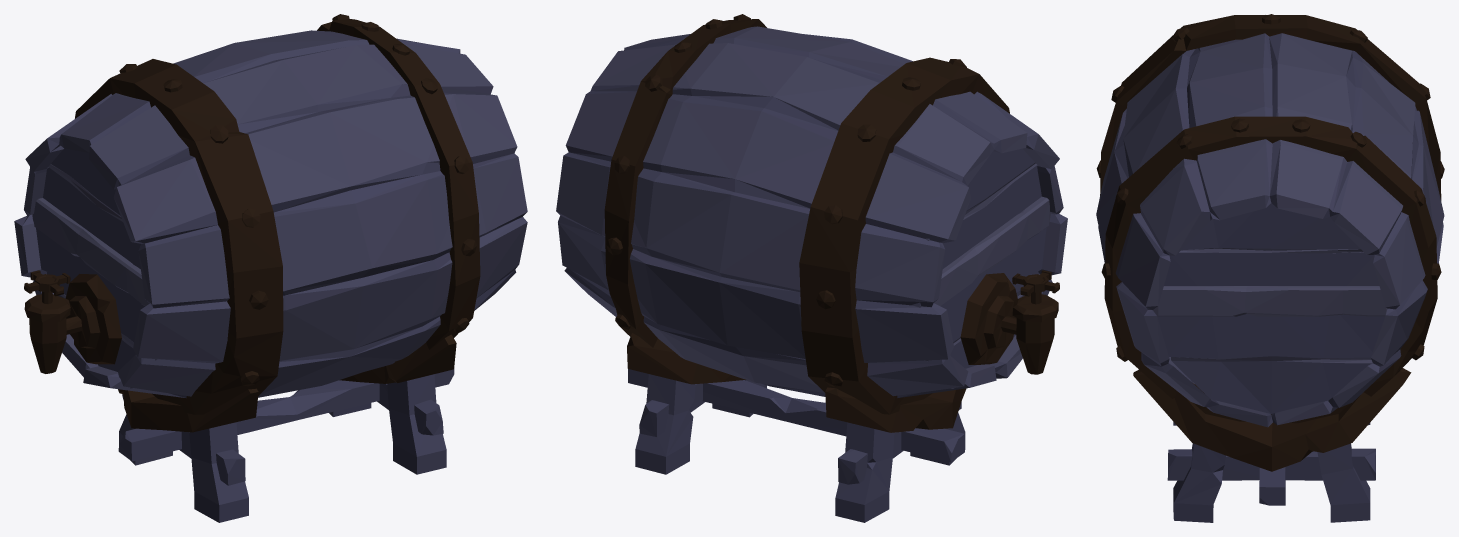
Rendered from SFFA_Beer_Barrel.fbx.
3 renders of one model, left to right at view 1: azimuth 30°, elevation 25°; view 2: azimuth 150°, elevation 25°; view 3: azimuth 270°, elevation 25°, orthographic. The views are drawn at different scales.
Visible parts, largest first — view 1: SFFA_Beer_Barrel; view 2: SFFA_Beer_Barrel; view 3: SFFA_Beer_Barrel.
Boxes of the visible parts, bbox=[...] form: SFFA_Beer_Barrel: bbox=[14, 14, 527, 522]; SFFA_Beer_Barrel: bbox=[556, 14, 1067, 522]; SFFA_Beer_Barrel: bbox=[1096, 14, 1444, 522].
Size of the model in its own units: 66.16 by 58.54 by 46.35.
